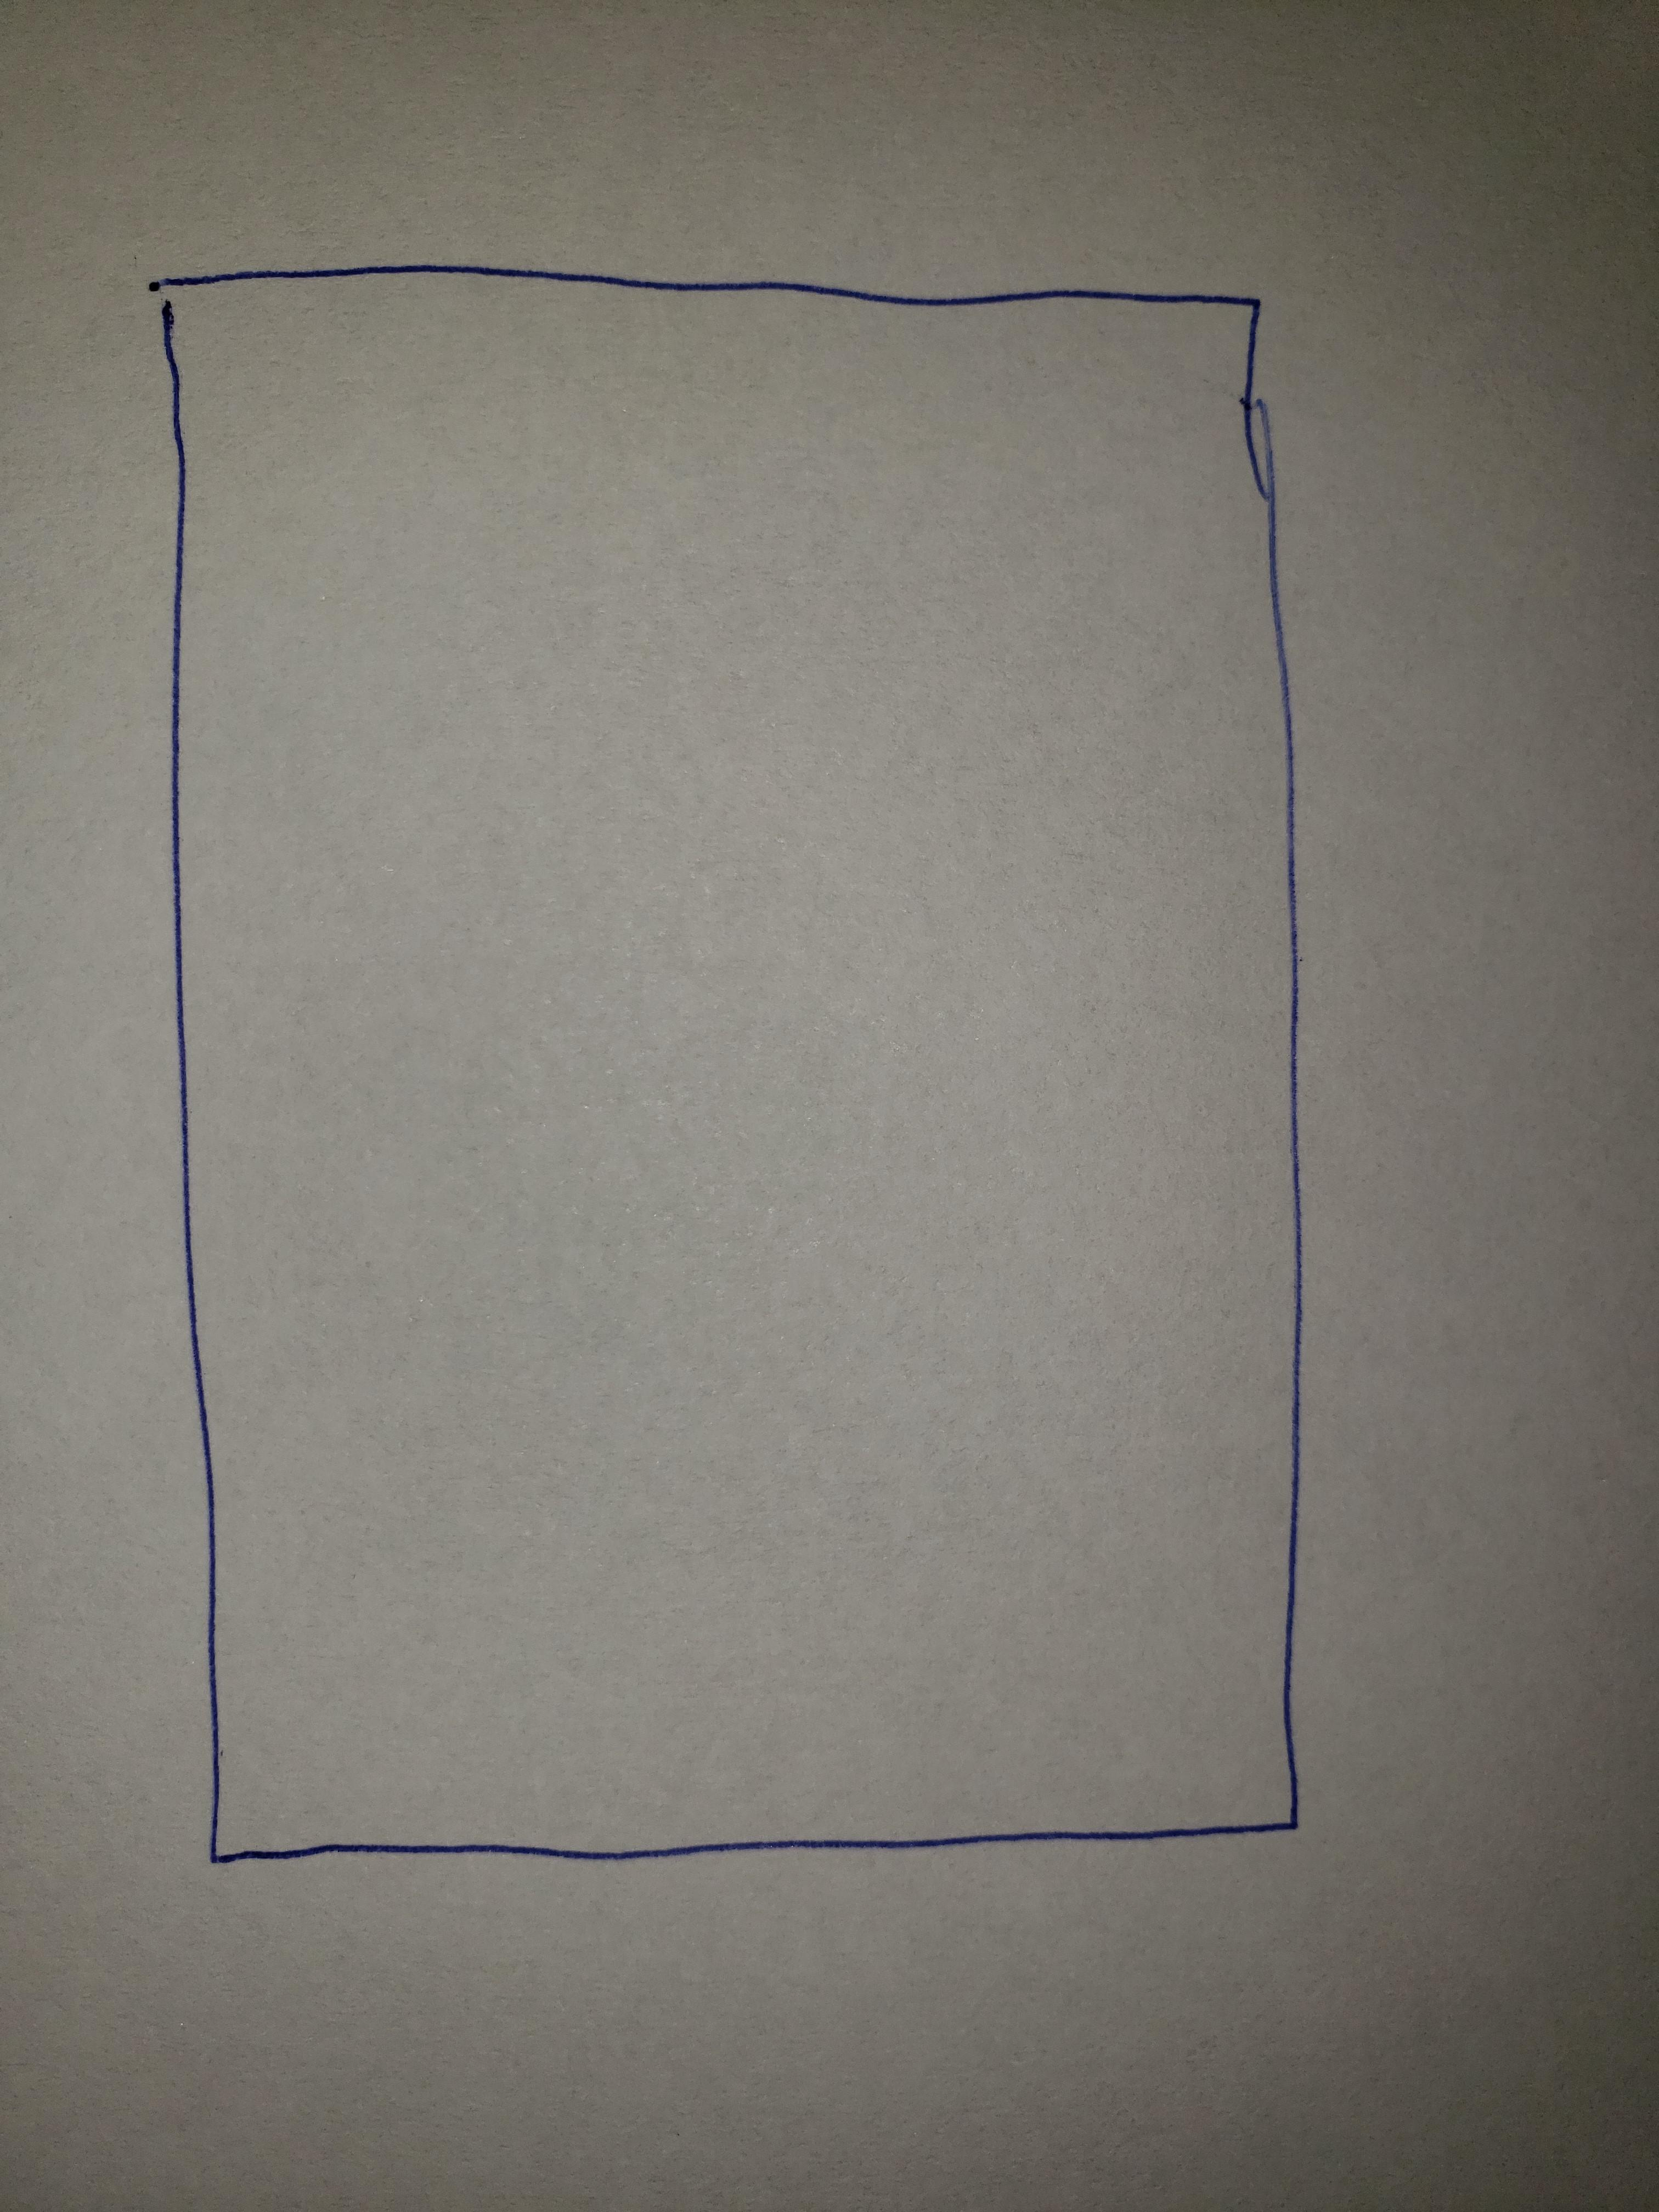Screen: (155, 272, 1304, 1864)
